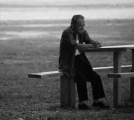male: (68, 14, 90, 39)
